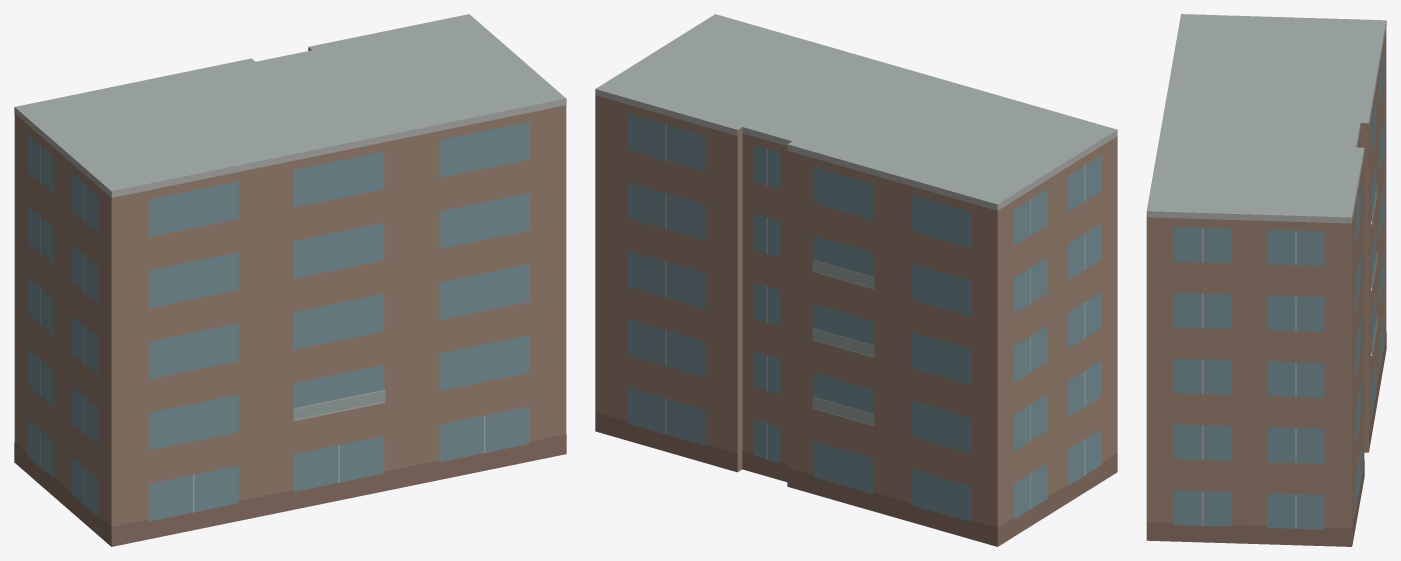
The model's file is survey-upis-32707451.glb.
3 renders of one model, left to right at view 1: azimuth 30°, elevation 25°; view 2: azimuth 150°, elevation 25°; view 3: azimuth 270°, elevation 25°, orthographic. The views are drawn at different scales.
Visible parts, largest first — view 1: survey-upis-32707451.tmp; view 2: survey-upis-32707451.tmp; view 3: survey-upis-32707451.tmp.
Part boxes in pixels (bbox=[...]): survey-upis-32707451.tmp: bbox=[14, 14, 566, 546]; survey-upis-32707451.tmp: bbox=[595, 14, 1117, 546]; survey-upis-32707451.tmp: bbox=[1146, 14, 1386, 546].
Bounding box in the file's own units: 17.63 × 13.3 × 8.79.
